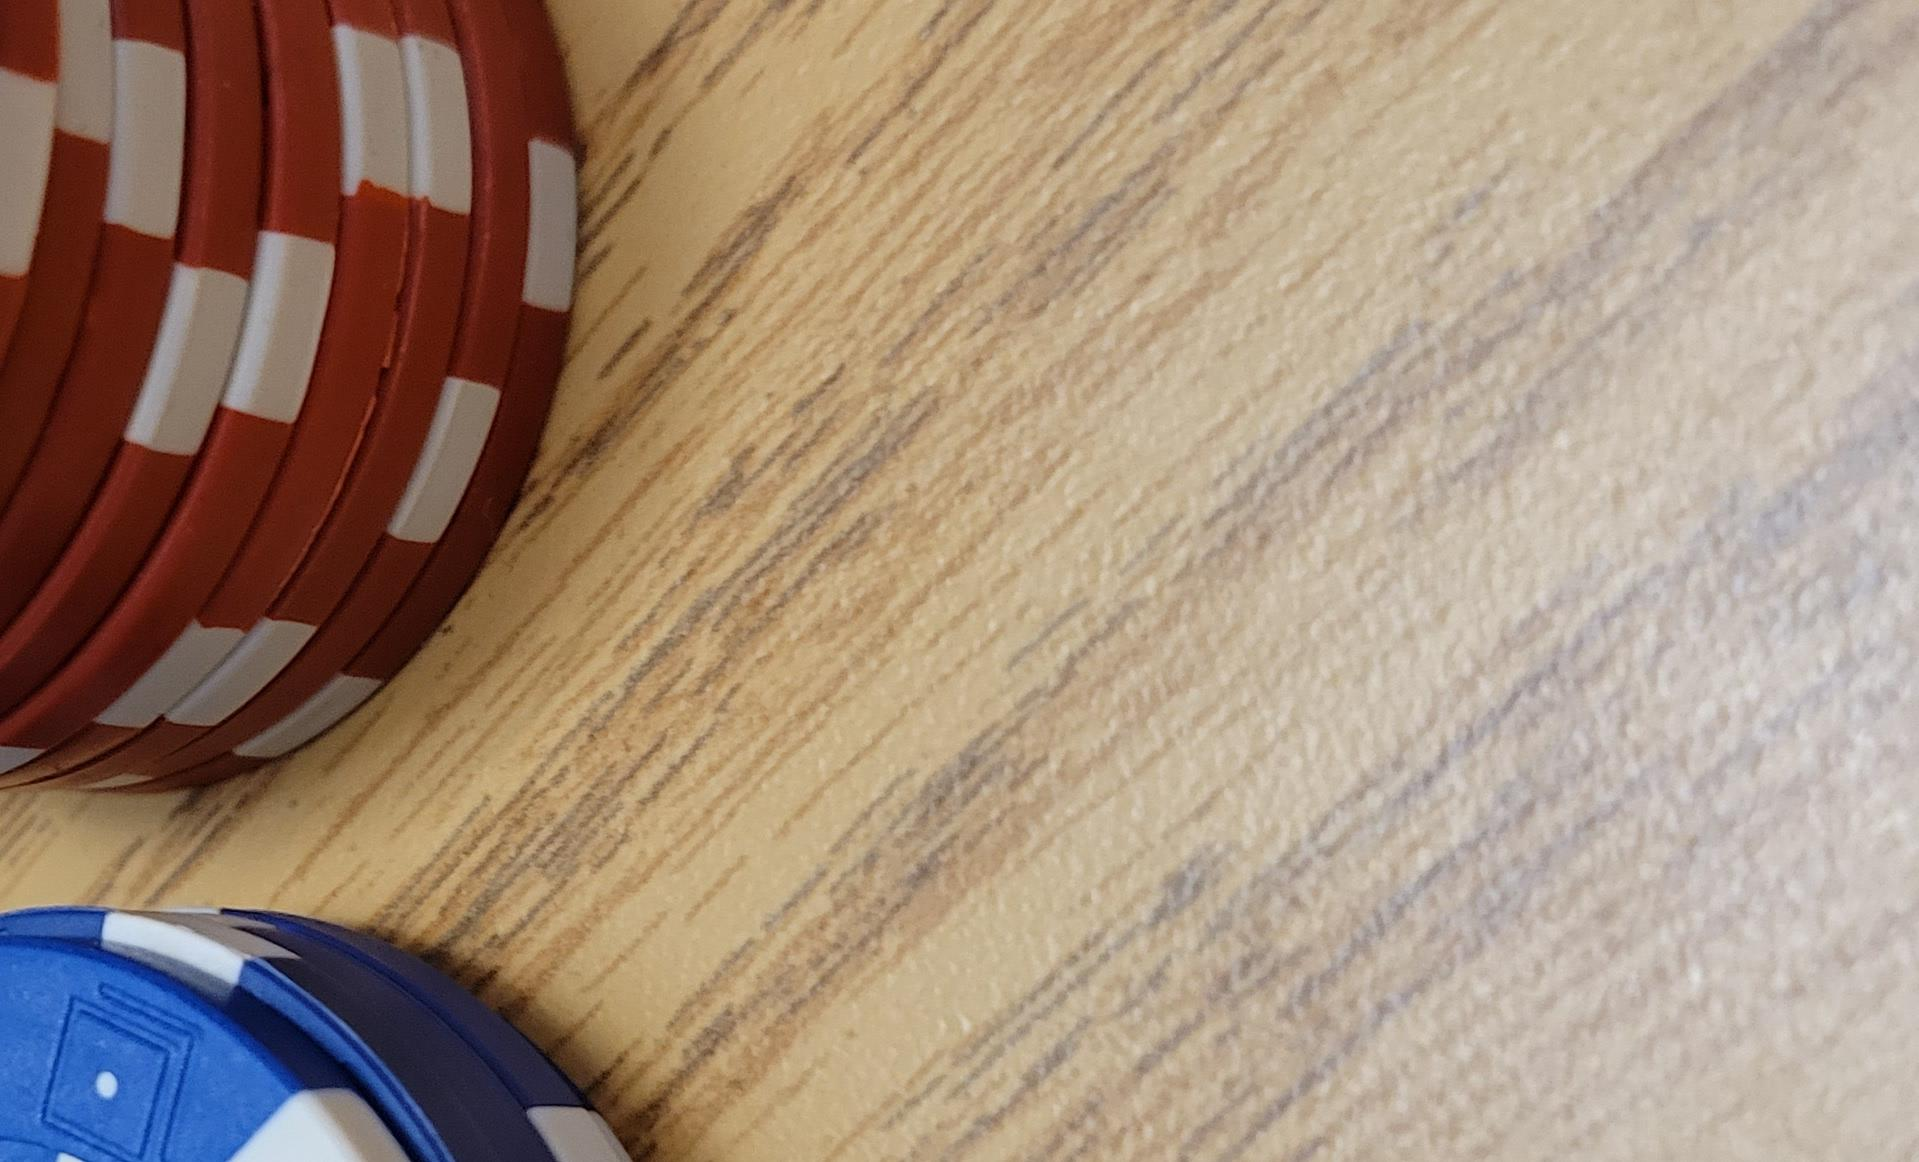Chip: (1, 243, 970, 1162)
